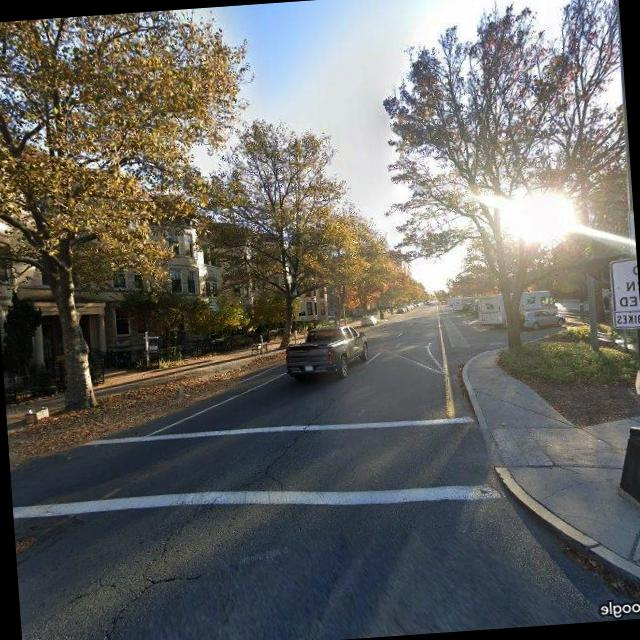pothole: (83, 503, 218, 640), (257, 400, 339, 486)
